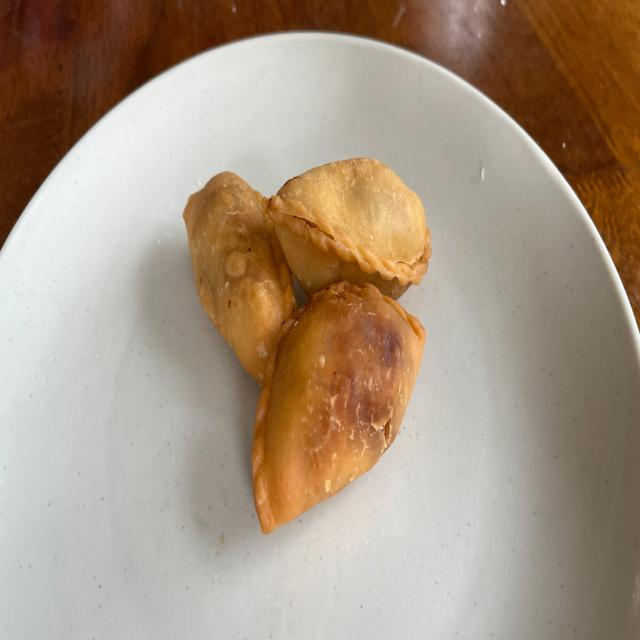karipap: (252, 282, 425, 533), (262, 158, 431, 298), (184, 171, 296, 382), (184, 171, 295, 382)
